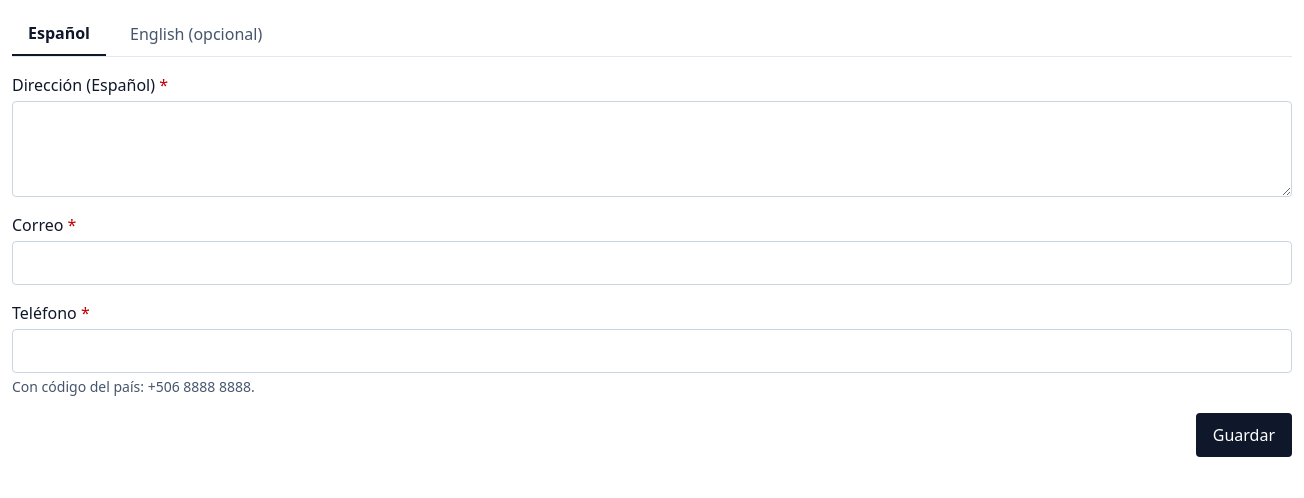
Test: ContactForm · contacto (FR-007) › muestra junto al campo el error del servidor sobre el teléfono
Type "San José" into the text box labelled "Dirección (Español) *" at (652, 149), box 12,101 -> 1292,197
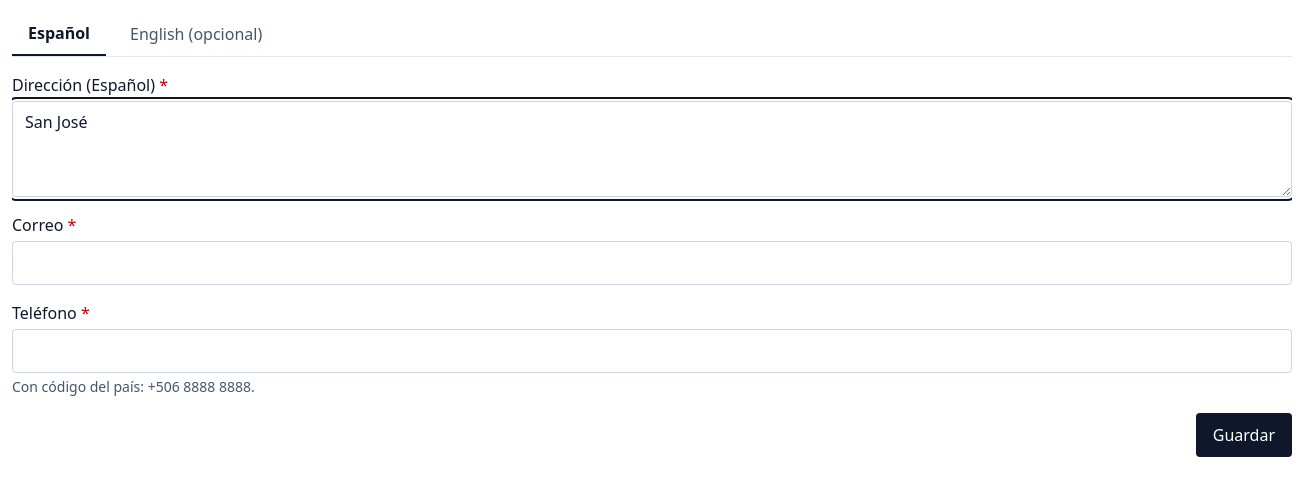
Type "hola@ejemplo.com" into the field labelled "Correo *" at (652, 263), box 12,241 -> 1292,285
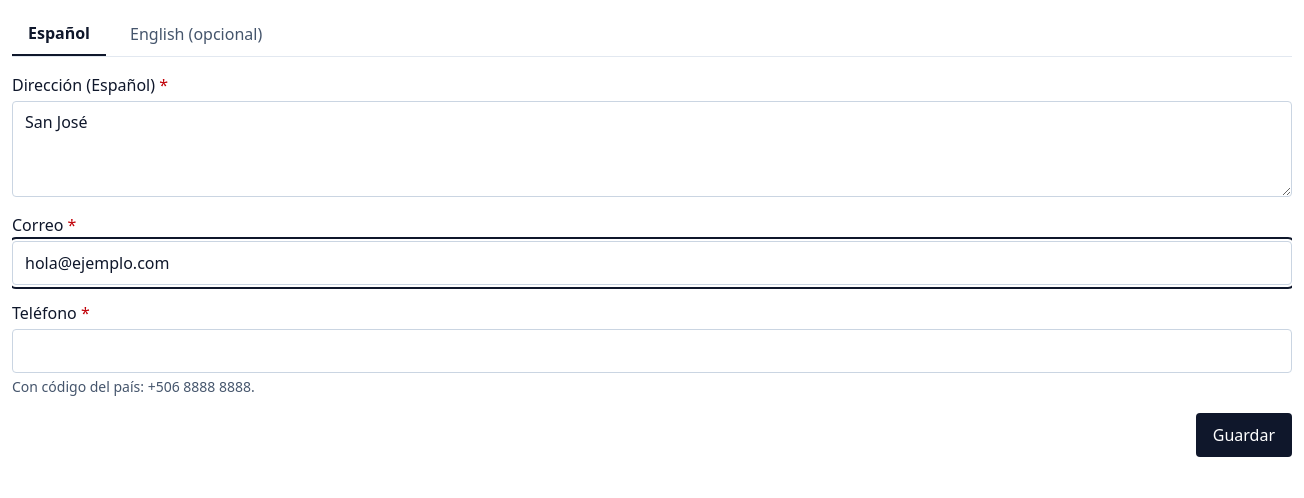
Type "+506 8888 8888" into the field labelled "Teléfono *" at (652, 351), box 12,329 -> 1292,373
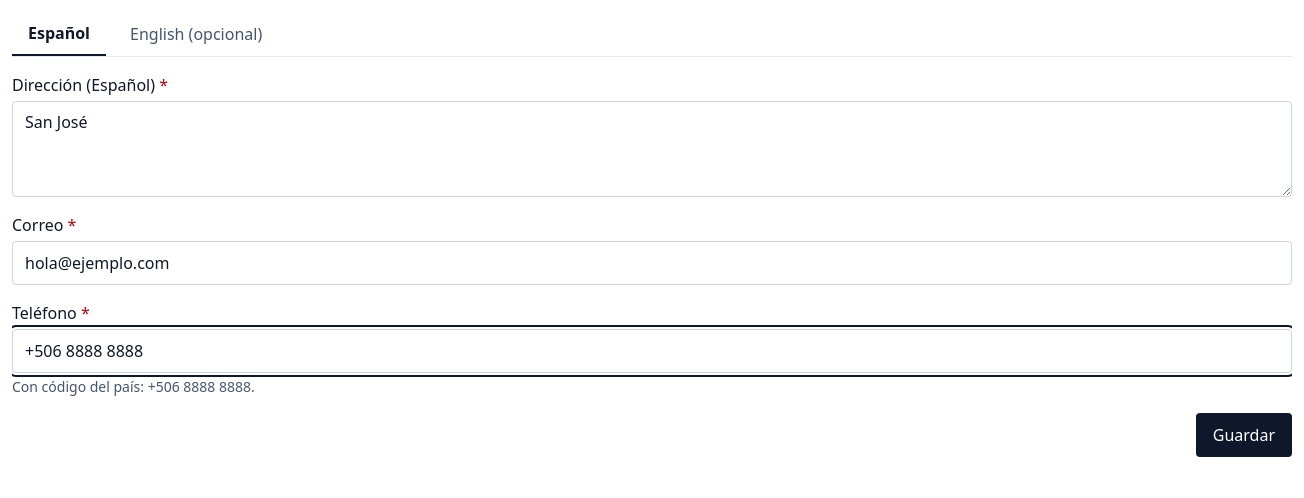
Click the button "Guardar" at (1244, 435), box 1196,413 -> 1292,457
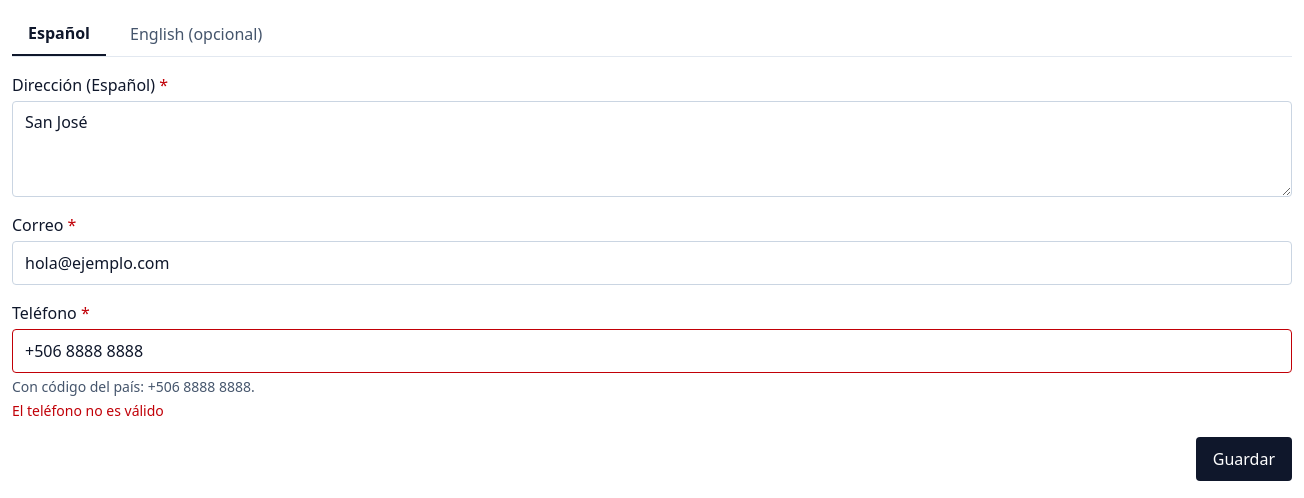
Result: the text "El teléfono no es válido" is shown at 12,401 -> 164,420
